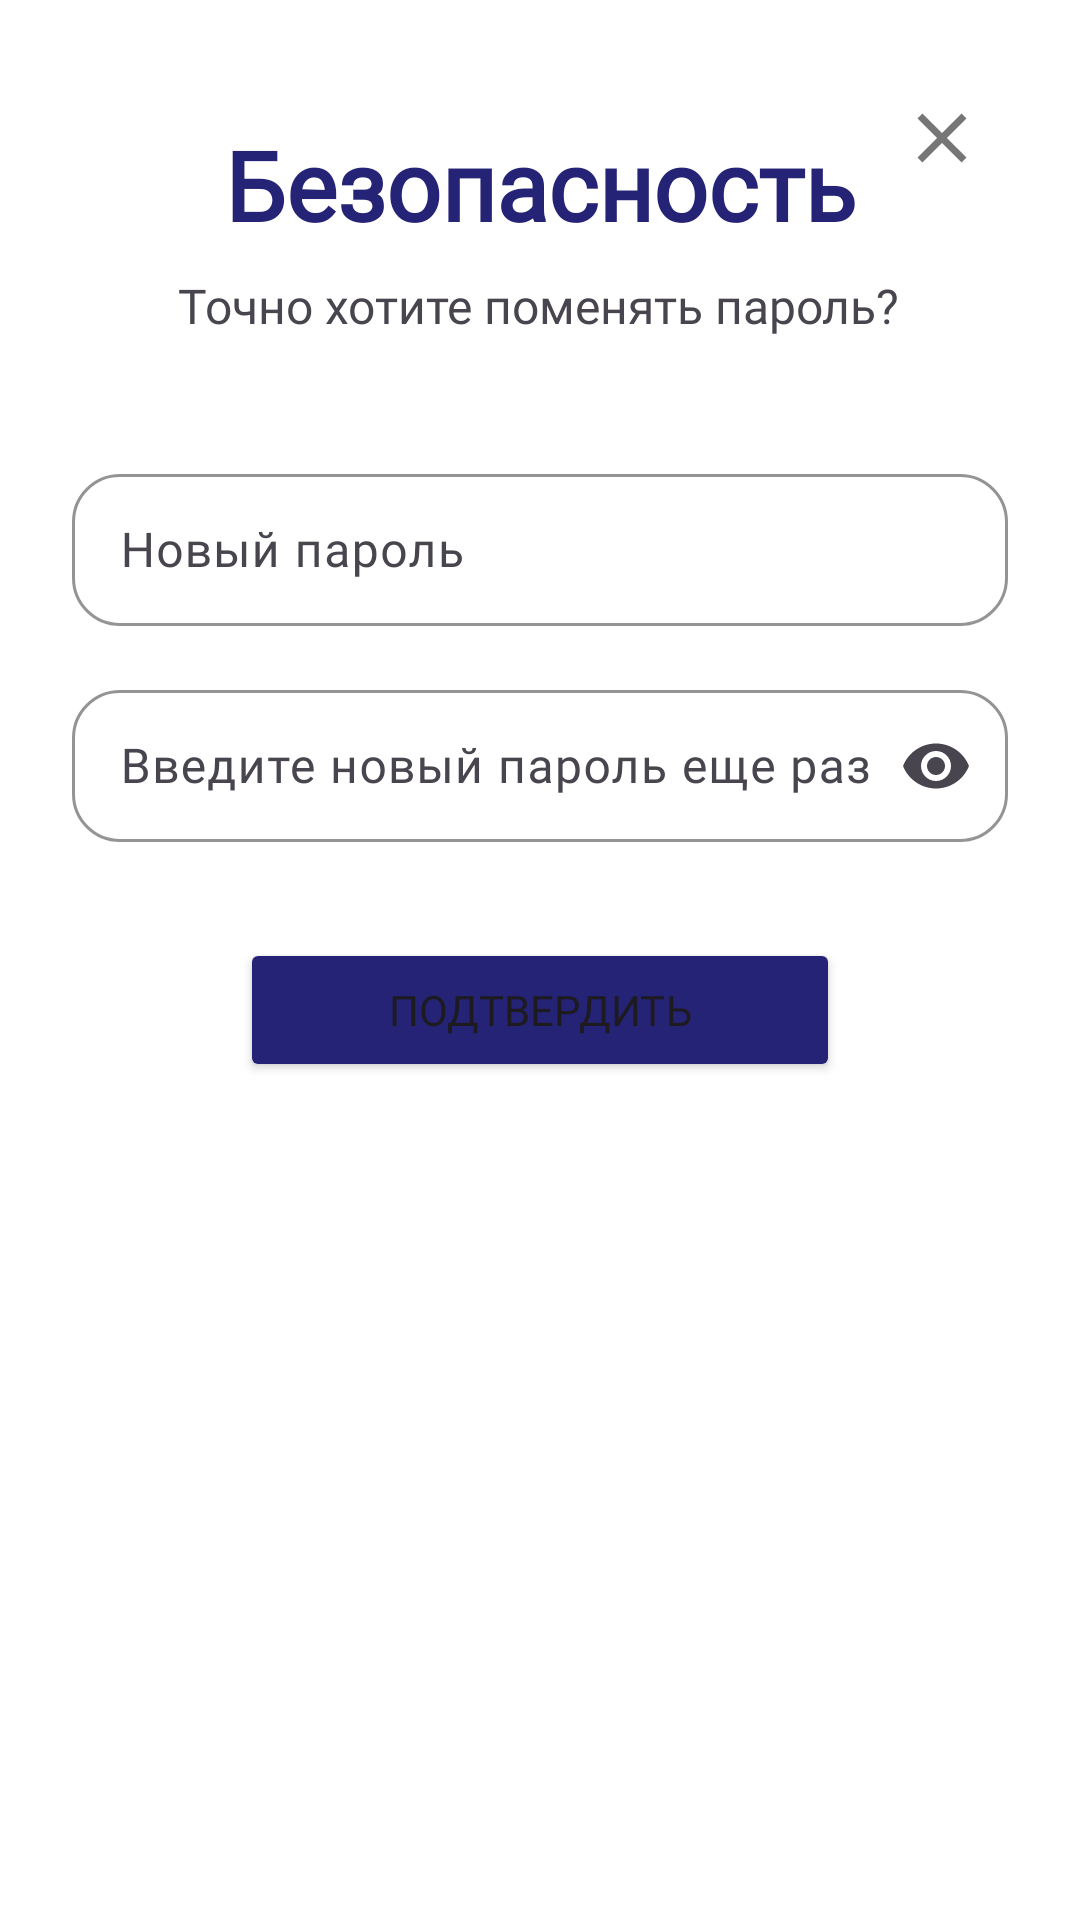

Icon bounding boxes for this 1080*1920 phone screenshot, format Rect(x1, y1, x2, y2):
close: Rect(917, 113, 967, 163)
